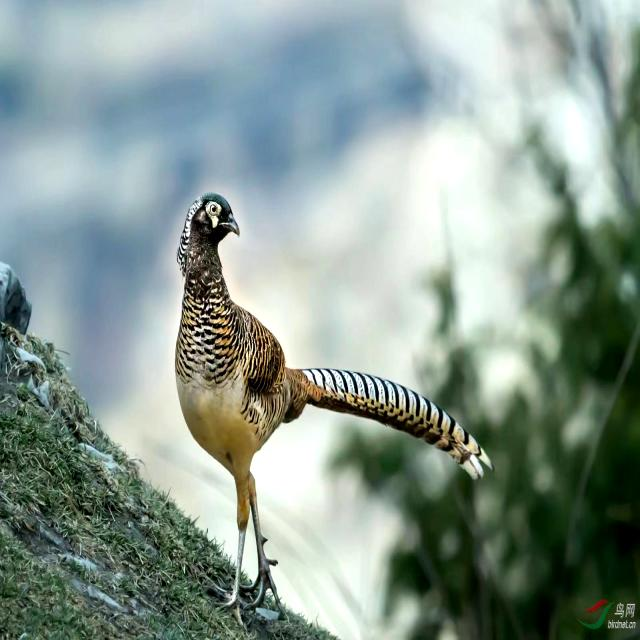Chrysolophus amherstiae: (300, 368, 491, 478)
